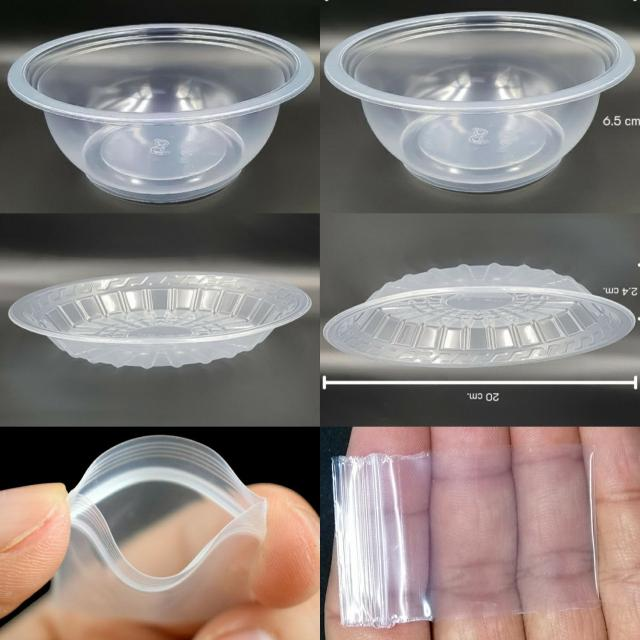Single-layer Plastic: (333, 444, 599, 627), (53, 436, 266, 624)
